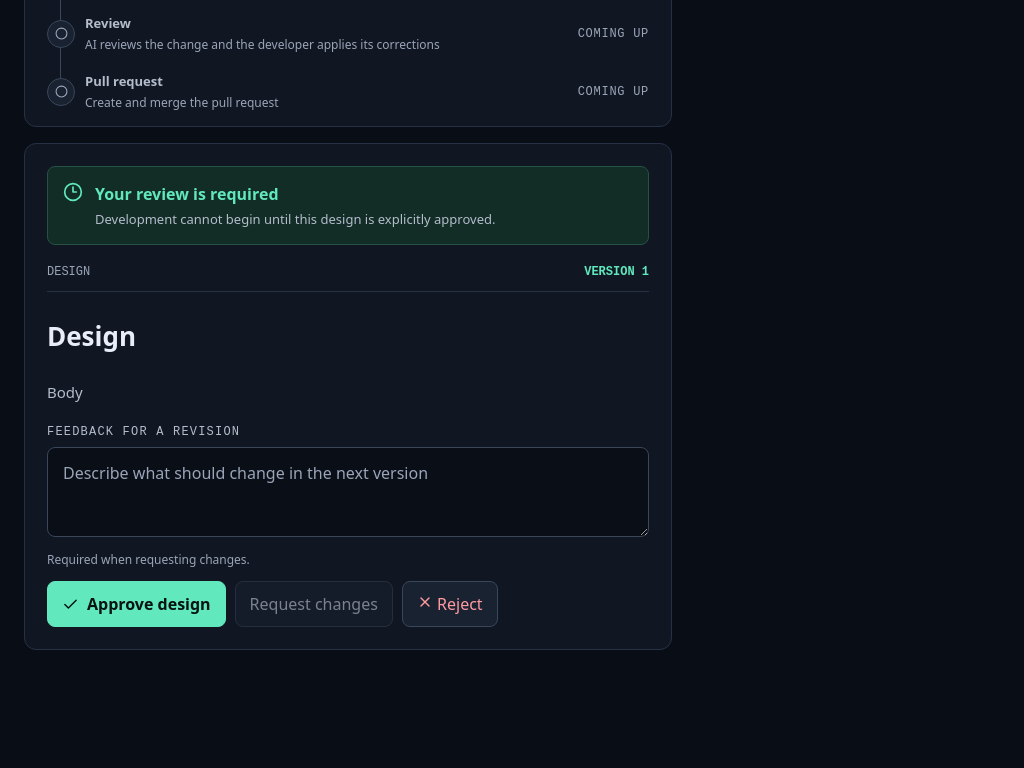
Test: WorkflowDetailPage actions › shows the API error when rejecting a design fails and re-enables actions
(page scrolled)
Click the button "Reject" at (450, 604), box left=402, top=581, right=498, bottom=627
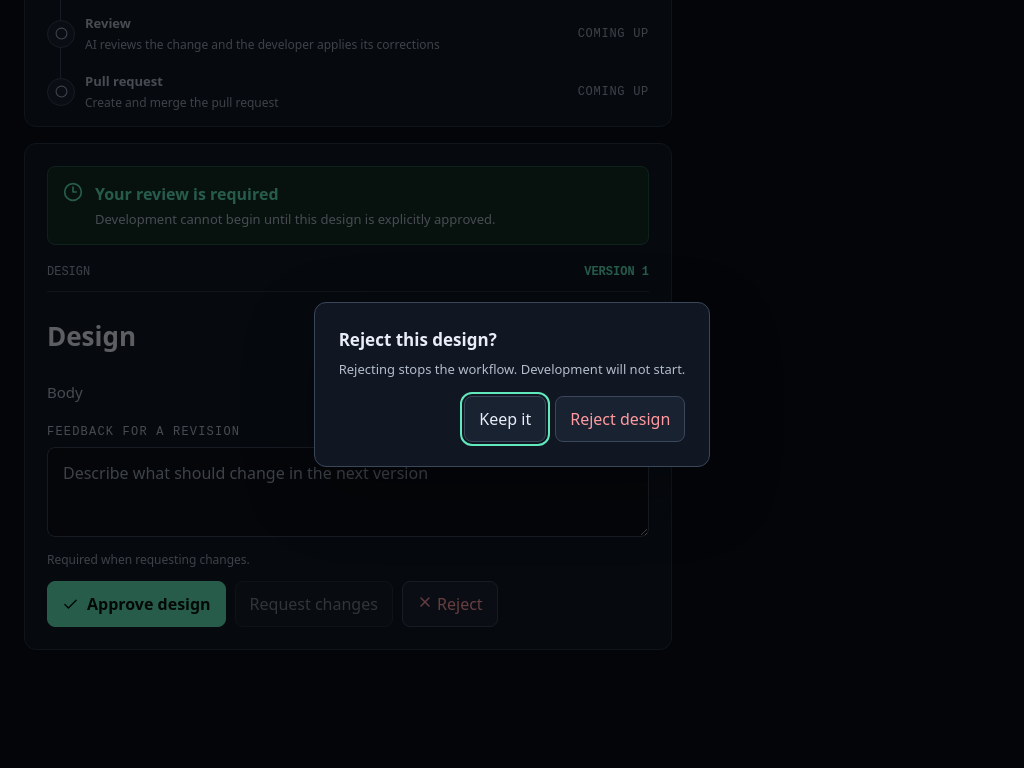
Click the button "Reject design" at (620, 418), box left=555, top=396, right=685, bottom=442
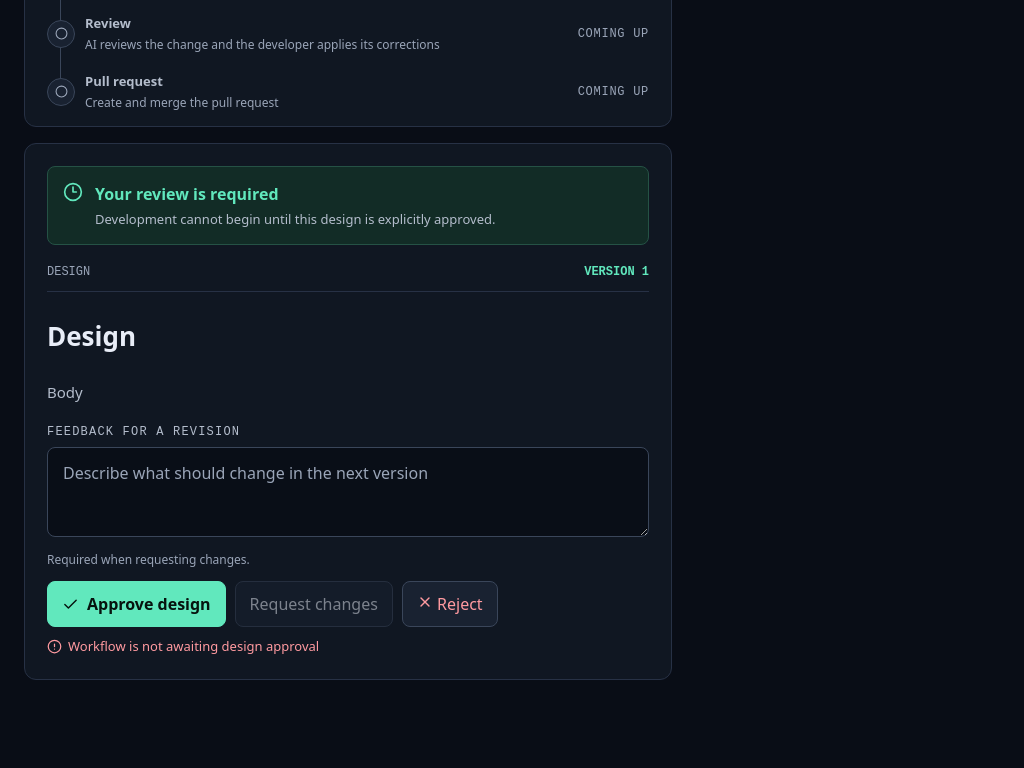
Check: the button "Reject" is enabled, box left=402, top=581, right=498, bottom=627
Check: the message reads "Workflow is not awaiting design approval", box left=68, top=637, right=319, bottom=655
